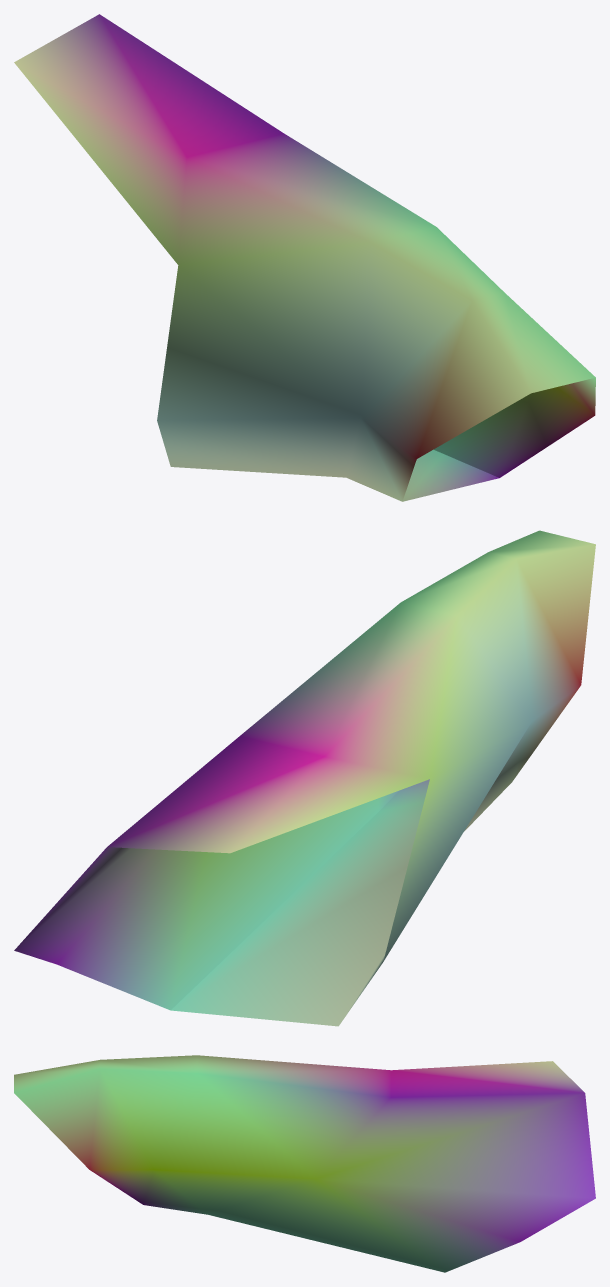
3 views of the same model, one above another, from view 1: azimuth 30°, elevation 25°; view 2: azimuth 150°, elevation 25°; view 3: azimuth 270°, elevation 25° (orthographic). The views are drawn at different scales.
Parts seen in each view (by area): view 1: part; view 2: part; view 3: part.
Boxes of the visible parts, <box> form: part: <box>14,14,595,501</box>; part: <box>14,530,595,1026</box>; part: <box>14,1055,595,1272</box>.
Bounding box in the file's own units: 16 × 20 × 54.
